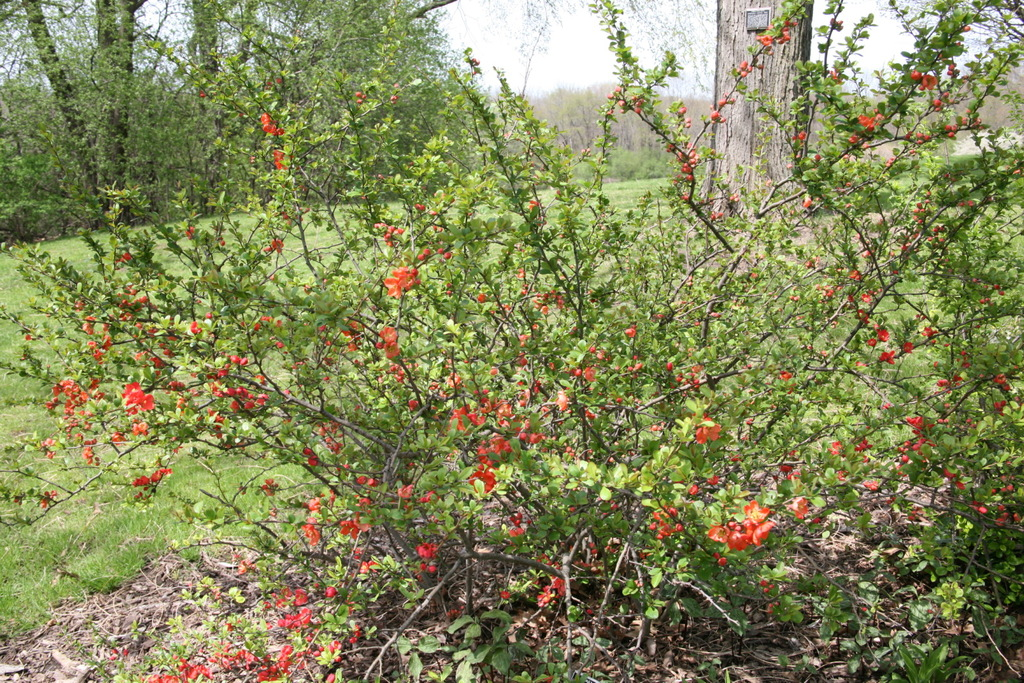Tree: (0, 0, 1022, 244)
